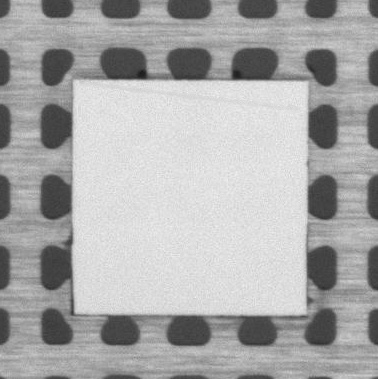DIE_CRACK: (81, 83, 296, 109)
